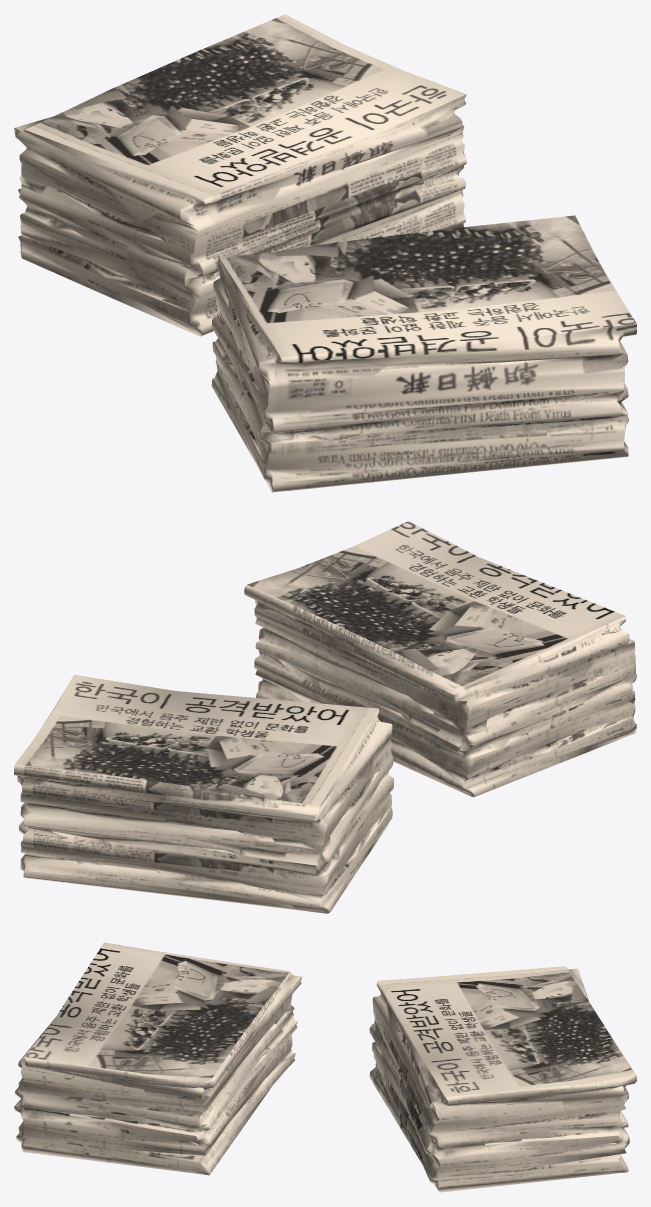
The picture shows the model from 3 angles, top to bottom: view 1: azimuth 30°, elevation 25°; view 2: azimuth 150°, elevation 25°; view 3: azimuth 270°, elevation 25°; orthographic projection. The views are drawn at different scales.
Visible parts, largest first — view 1: newspaper_1, newspaper_2; view 2: newspaper_2, newspaper_1; view 3: newspaper_1, newspaper_2.
Part boxes in pixels (<box>): newspaper_1: <box>211,215,636,492</box>; newspaper_2: <box>14,14,466,336</box>; newspaper_2: <box>14,674,393,913</box>; newspaper_1: <box>244,521,636,797</box>; newspaper_1: <box>14,942,302,1175</box>; newspaper_2: <box>369,966,636,1192</box>.
Bounding box in the file's own units: 244 × 73.21 × 408.
Materials: 1 (1 with a texture image).
